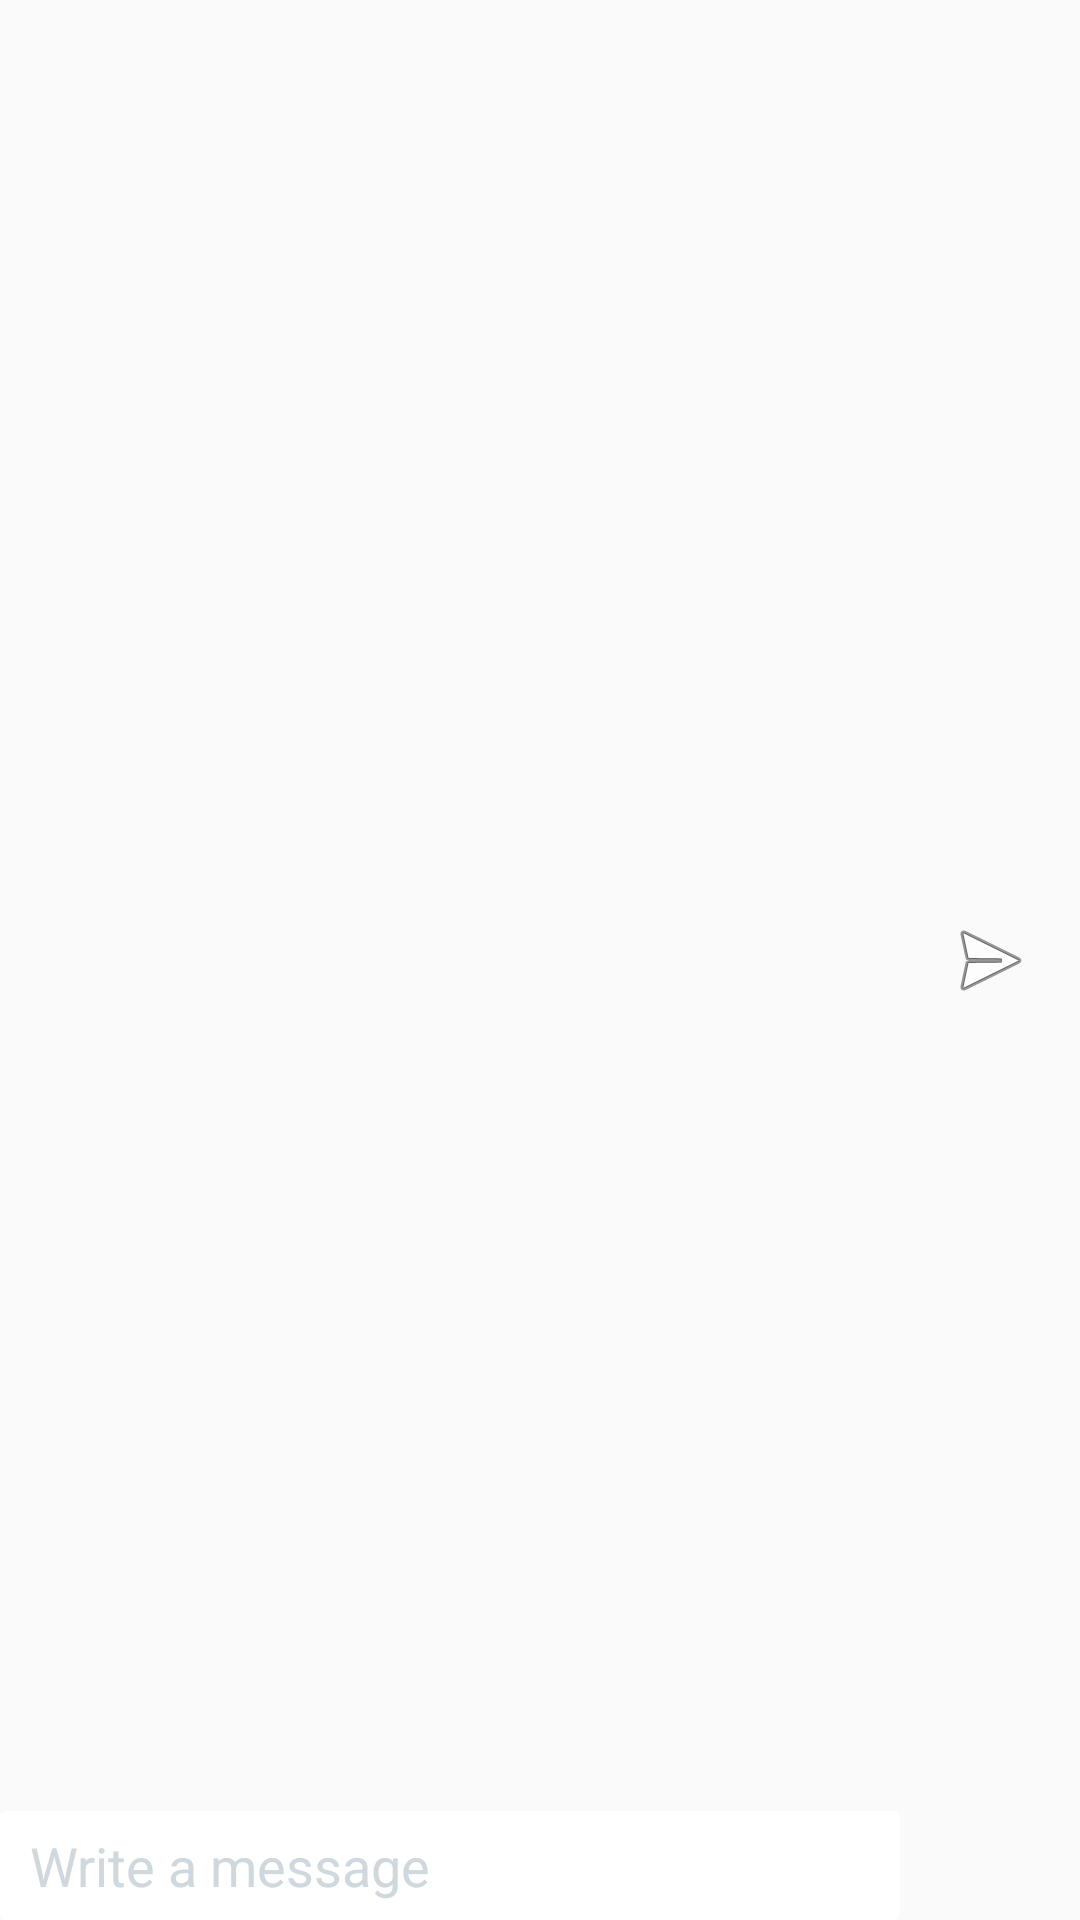

Icons on this 1080 × 1920 Android screen, each with the point to tap as point (x, y):
send: point (991, 960)
